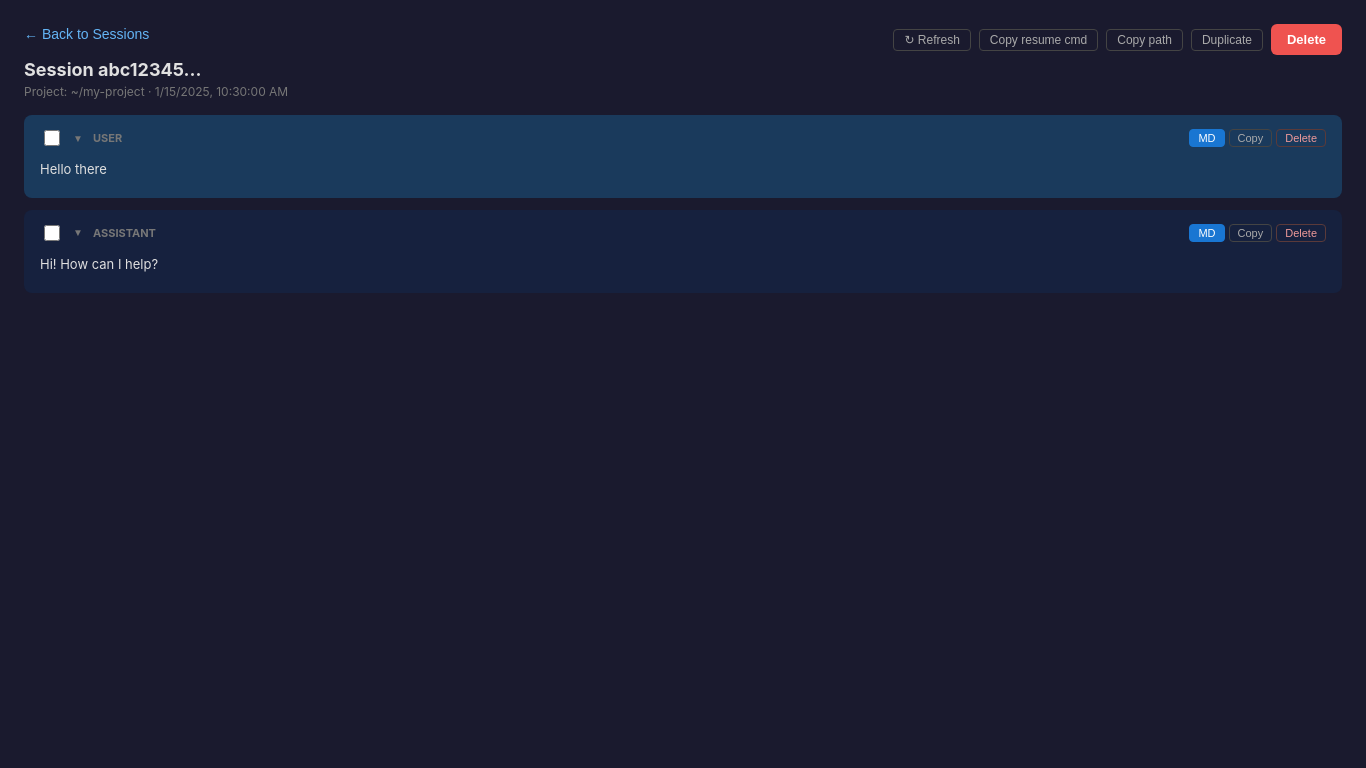
Test: SessionDetail › message delete flow › shows confirmation dialog when message delete is clicked
Expected: the text "Hello there" is shown, [40,161,107,177]
Click the button "Delete" in the row of "user" at (1301, 138), box [1276,129,1326,147]
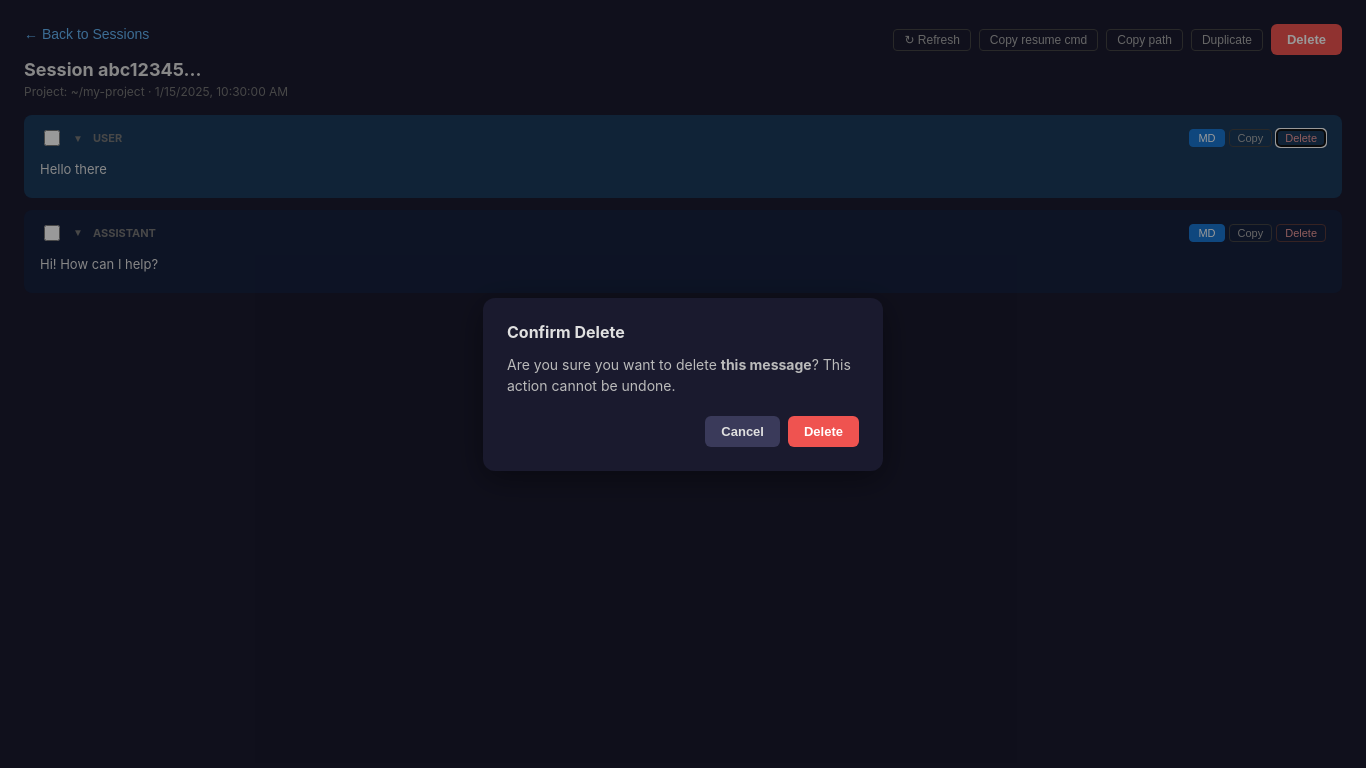
Result: the text "Are you sure" is shown at [507,356,721,372]
